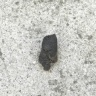Dog: (38, 34, 61, 71)
